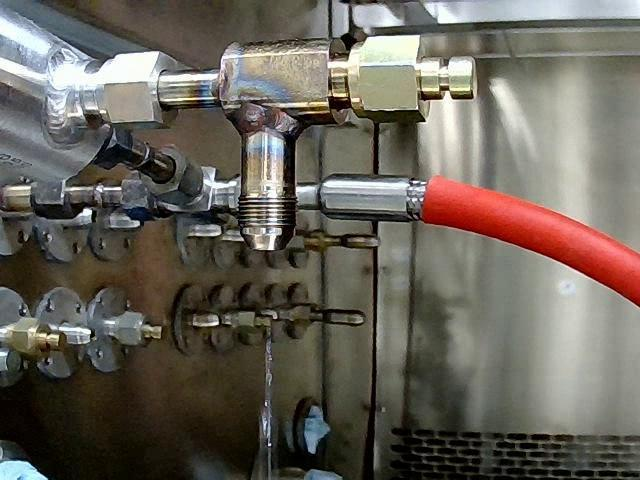water drop: (252, 337, 281, 480)
